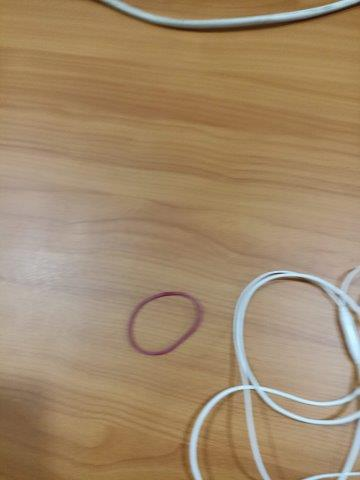karet: (127, 291, 202, 356)
